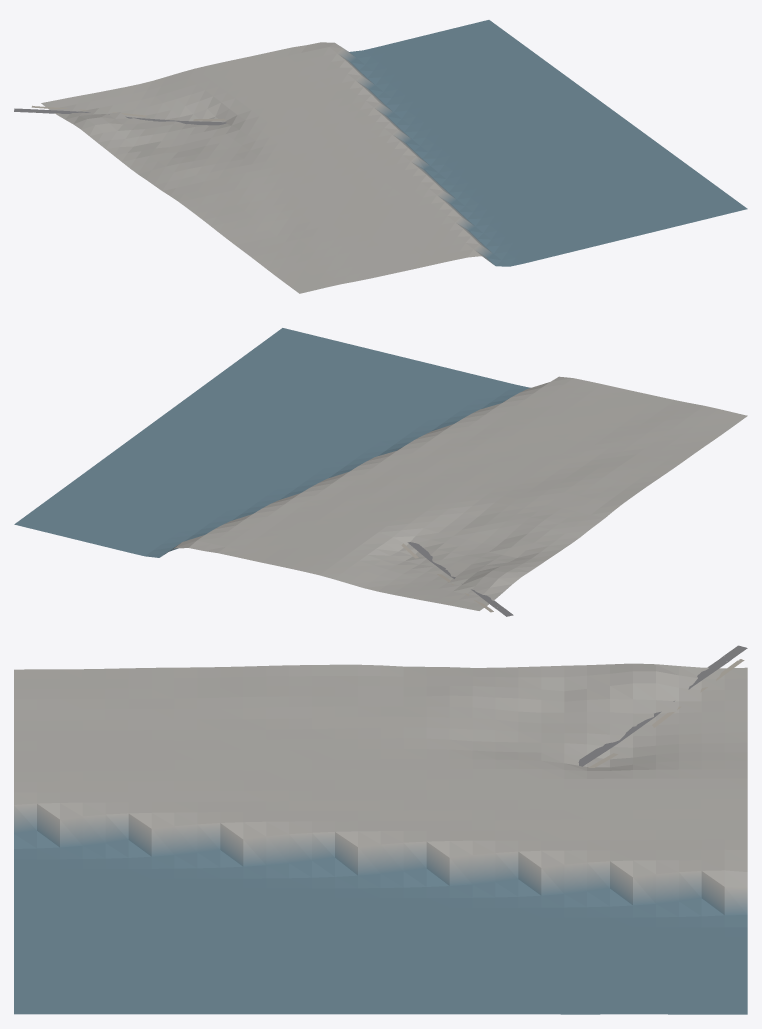
The model's file is tile_2_-7.glb.
3 renders of one model, top to bottom at view 1: azimuth 30°, elevation 25°; view 2: azimuth 150°, elevation 25°; view 3: azimuth 270°, elevation 25°, orthographic. The views are drawn at different scales.
Visible parts, largest first — view 1: terrain, roads; view 2: terrain, roads; view 3: terrain, roads.
Boxes of the visible parts, x1,y1,x2,y2 form: terrain: (41, 20, 747, 293); roads: (14, 108, 226, 125); terrain: (14, 328, 747, 610); roads: (407, 542, 513, 616); terrain: (14, 663, 747, 1014); roads: (578, 645, 747, 766).
Size of the model in its own units: 273 by 16.54 by 256.
